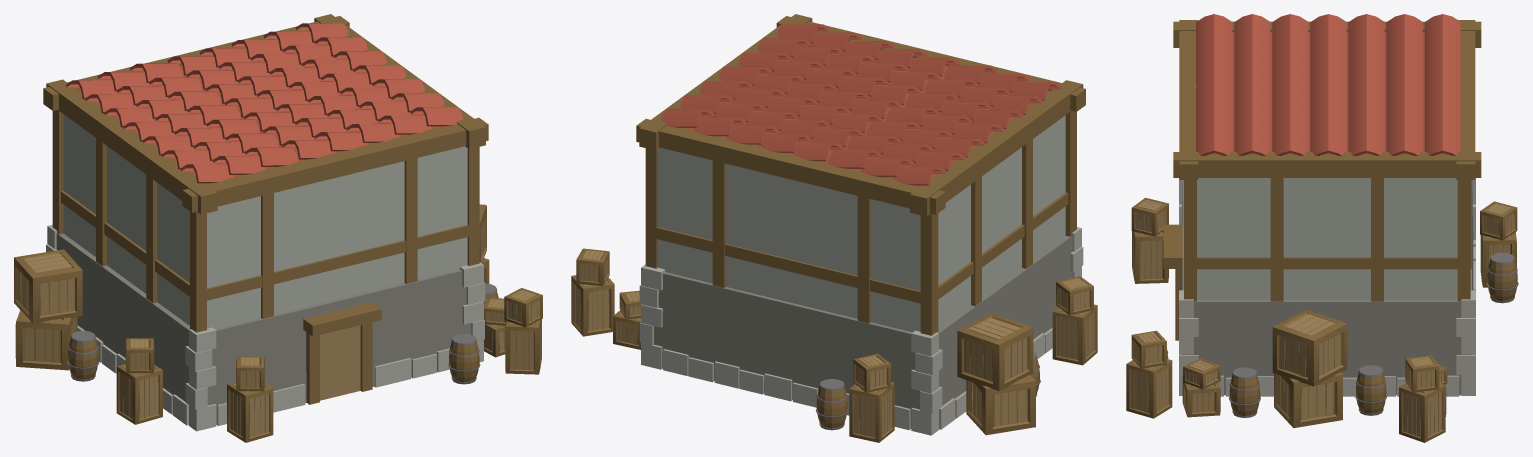
Rendered from Storage_SecondAge_Level2.glb.
The picture shows the model from 3 angles, left to right: view 1: azimuth 30°, elevation 25°; view 2: azimuth 150°, elevation 25°; view 3: azimuth 270°, elevation 25°; orthographic projection.
Parts seen in each view (by area): view 1: Storage_SecondAge_Level2; view 2: Storage_SecondAge_Level2; view 3: Storage_SecondAge_Level2.
Part boxes in pixels (x1,y1,x2,y2): Storage_SecondAge_Level2: [14, 14, 542, 442]; Storage_SecondAge_Level2: [571, 14, 1097, 442]; Storage_SecondAge_Level2: [1126, 14, 1518, 442].
Size of the model in its own units: 1.65 by 0.8911 by 1.25.
1 material, 1 textured.
